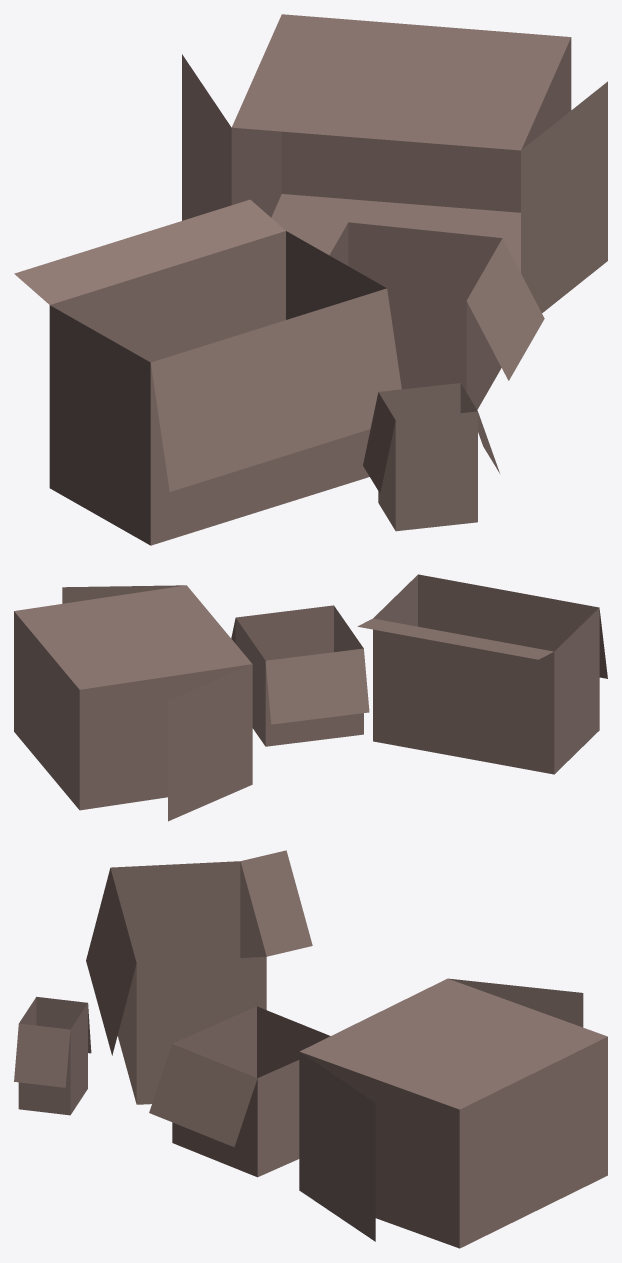
Rendered from pudła1.fbx.
3 views of the same model, one above another, from view 1: azimuth 30°, elevation 25°; view 2: azimuth 150°, elevation 25°; view 3: azimuth 270°, elevation 25° (orthographic). The views are drawn at different scales.
Parts seen in each view (by area): view 1: Cube.002, Cube, Cube.003, Cube.004; view 2: Cube, Cube.002, Cube.003; view 3: Cube, Cube.002, Cube.003, Cube.004.
Boxes of the visible parts, x1,y1,x2,y2 form: Cube.002: (14, 199, 401, 545); Cube: (182, 14, 607, 312); Cube.003: (329, 222, 544, 409); Cube.004: (363, 383, 499, 531); Cube: (14, 585, 252, 821); Cube.002: (357, 574, 607, 774); Cube.003: (231, 605, 369, 746); Cube: (299, 978, 607, 1248); Cube.002: (86, 850, 312, 1104); Cube.003: (149, 1006, 330, 1177); Cube.004: (14, 996, 91, 1115).
Bounding box in the file's own units: 1118 × 310 × 1111.
